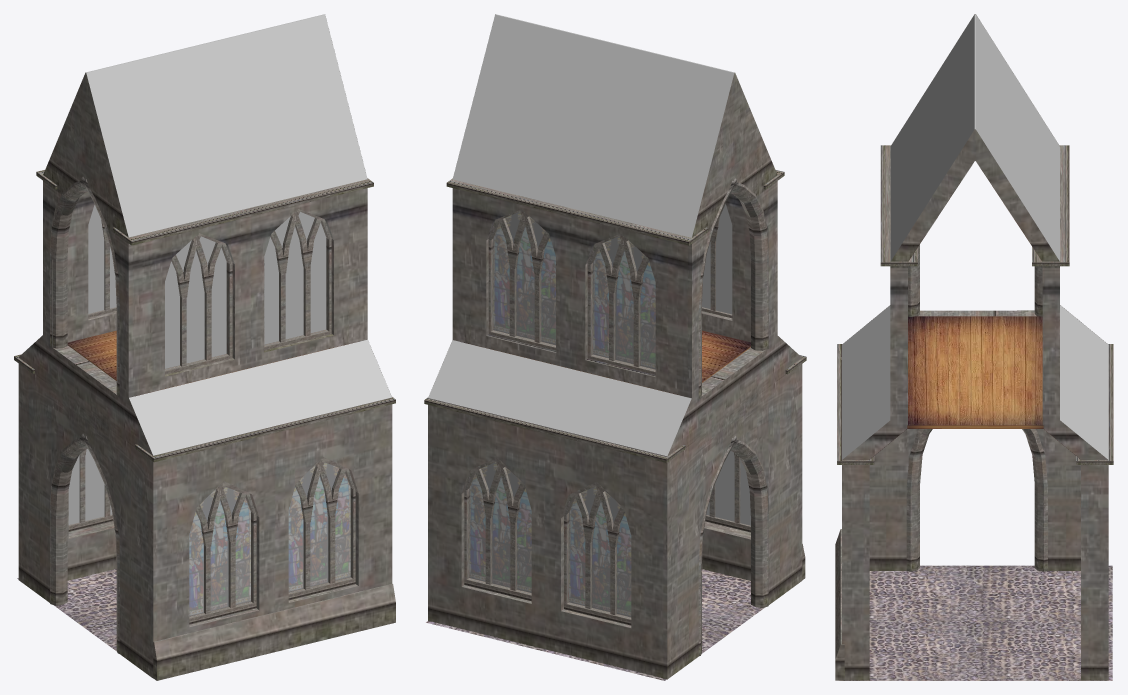
File: ChurchSection.obj
The picture shows the model from 3 angles, left to right: view 1: azimuth 30°, elevation 25°; view 2: azimuth 150°, elevation 25°; view 3: azimuth 270°, elevation 25°; orthographic projection.
Parts seen in each view (by area): view 1: churchWall, roof, grill, stainglass, cobble, floor; view 2: churchWall, roof, grill, stainglass, cobble, floor; view 3: churchWall, roof, cobble, floor.
Boxes of the visible parts, x1,y1,x2,y2 form: churchWall: [14, 72, 395, 680]; roof: [86, 14, 391, 455]; grill: [68, 205, 350, 616]; stainglass: [190, 463, 349, 615]; cobble: [17, 569, 116, 651]; floor: [67, 330, 358, 396]; churchWall: [424, 14, 806, 679]; roof: [428, 14, 734, 456]; grill: [469, 204, 750, 616]; stainglass: [470, 212, 654, 616]; cobble: [426, 569, 764, 680]; floor: [461, 330, 750, 395]; churchWall: [835, 14, 1113, 680]; roof: [842, 14, 1108, 459]; cobble: [839, 565, 1112, 680]; floor: [871, 166, 1079, 458].
Size of the model in its own units: 76.97 by 169 by 77.51.
